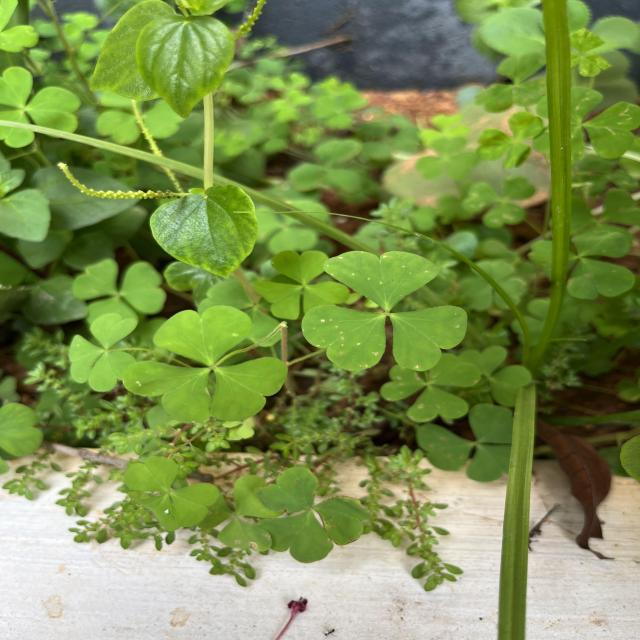Oxalis corniculata: (300, 248, 470, 374), (121, 304, 290, 424), (257, 465, 374, 563), (124, 455, 222, 532), (252, 248, 352, 320), (0, 64, 83, 148), (67, 312, 138, 392)
